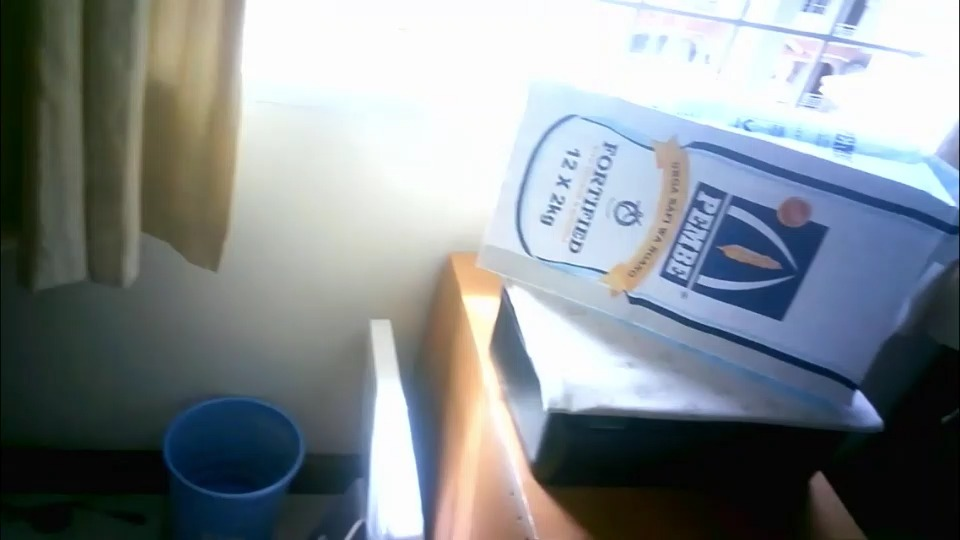wheat_flour_blue_label: (475, 78, 956, 405)
